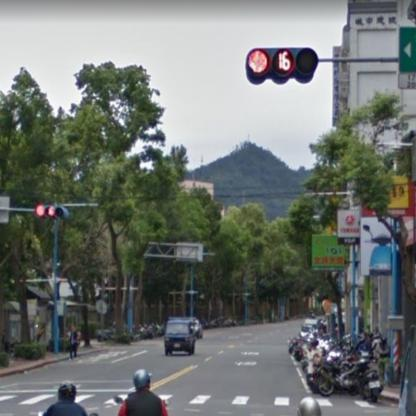Red Light: (246, 46, 320, 82), (34, 200, 70, 224)
